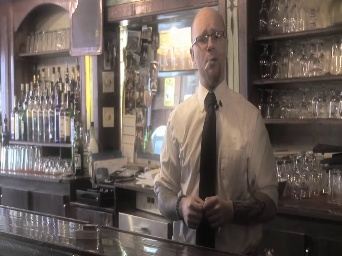smoke: (203, 57, 210, 71)
